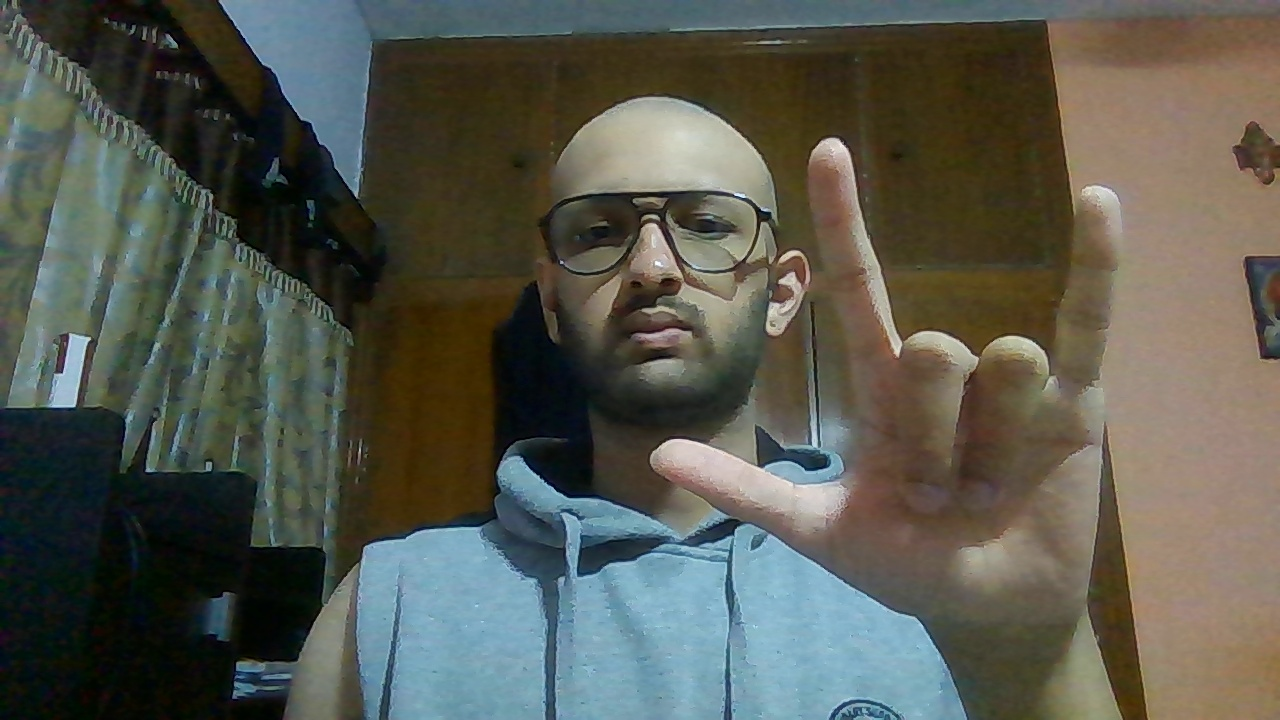I Love You: (645, 138, 1135, 624)
